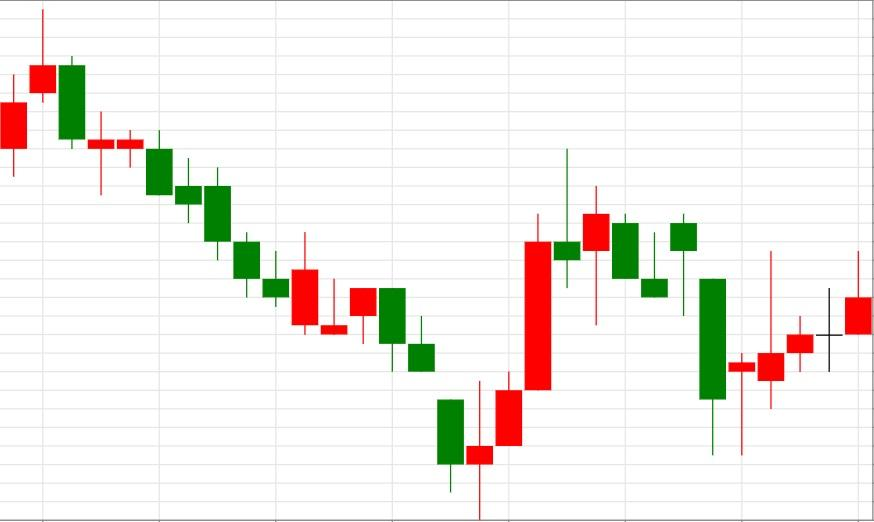three_white_soldiers_rise: (349, 213, 552, 522)
